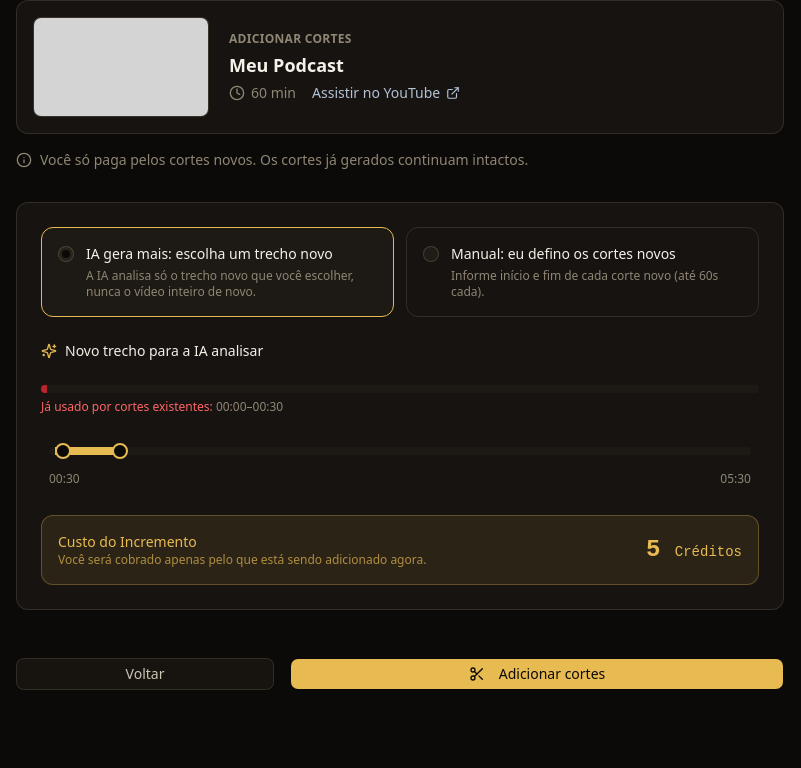
Test: AddClipsToProjectClient › modo manual: custo reflete só os cortes novos válidos
Click the radio button named "Manual: eu defino" next to "Manual: eu defino os cortes novos" at [431, 254], box top-left (423, 246), bottom-right (439, 262)
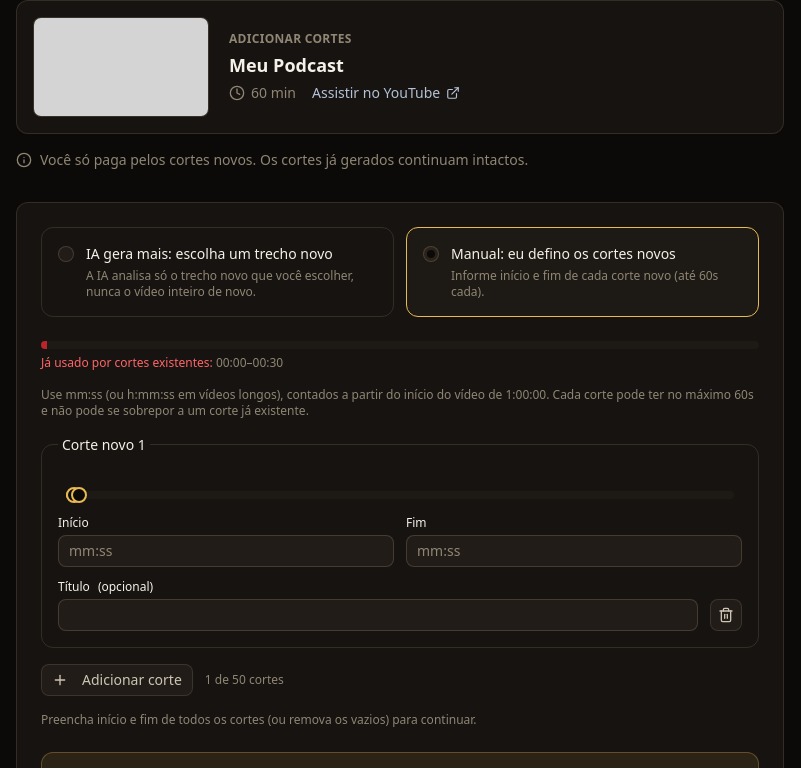
Type "05:00" into the field named "Início do corte novo 1" at [226, 551], box top-left (58, 535), bottom-right (394, 567)
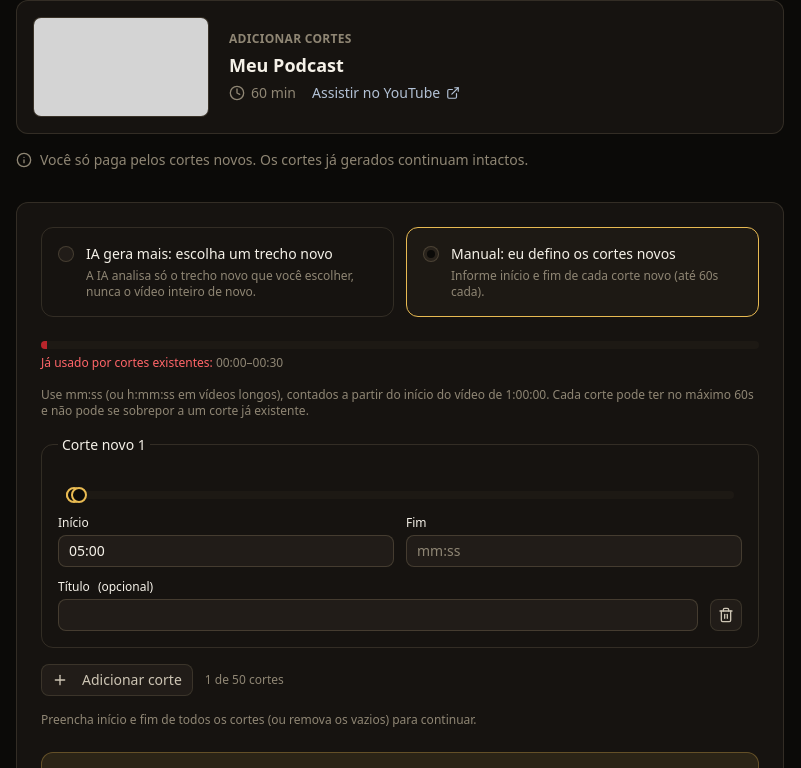
Type "05:30" into the field named "Fim do corte novo 1" at [574, 551], box top-left (406, 535), bottom-right (742, 567)
(page scrolled)
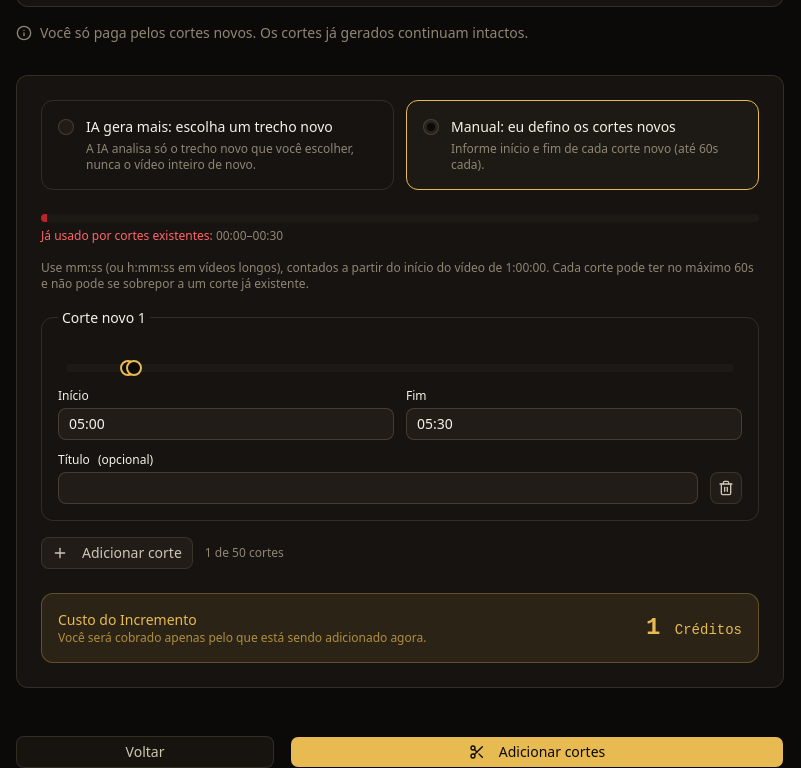
Check: the element with test id "append-processing-cost" reads "1 Créditos", box top-left (646, 612), bottom-right (742, 644)
